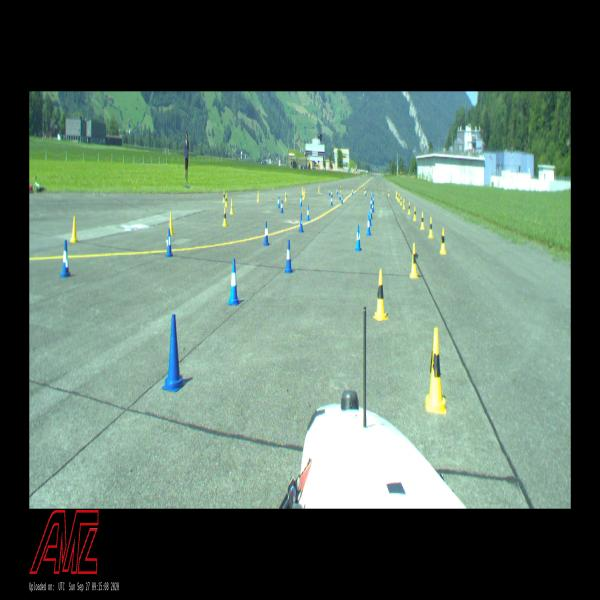blue_cone: (162, 315, 186, 391), (227, 258, 241, 305), (283, 239, 294, 273), (60, 241, 70, 276), (355, 224, 362, 250), (263, 222, 270, 246), (167, 228, 172, 258), (299, 213, 304, 232), (366, 217, 371, 236), (306, 206, 310, 221), (280, 200, 284, 213), (369, 209, 372, 225), (370, 205, 373, 218), (277, 197, 280, 208), (371, 202, 374, 213), (341, 194, 343, 204), (300, 196, 302, 206), (371, 190, 373, 200), (331, 190, 333, 198), (370, 198, 372, 206), (339, 192, 341, 199), (336, 188, 338, 195), (331, 196, 332, 206), (329, 188, 330, 196), (365, 189, 366, 196), (352, 188, 353, 194)
yellow_cone: (425, 328, 446, 414), (373, 269, 388, 321), (409, 244, 418, 278), (70, 216, 78, 242), (440, 228, 446, 254), (168, 212, 174, 234), (428, 217, 434, 238), (222, 208, 228, 226), (420, 212, 425, 230), (230, 199, 234, 214), (413, 207, 417, 221), (408, 201, 411, 214), (225, 194, 228, 206), (223, 191, 225, 202), (257, 191, 259, 202), (403, 199, 405, 209), (285, 192, 287, 202), (400, 196, 402, 206), (398, 194, 400, 202), (388, 189, 390, 196), (318, 186, 320, 192), (303, 191, 304, 200), (364, 187, 365, 194), (396, 191, 397, 198), (397, 193, 398, 200), (340, 187, 341, 193)
